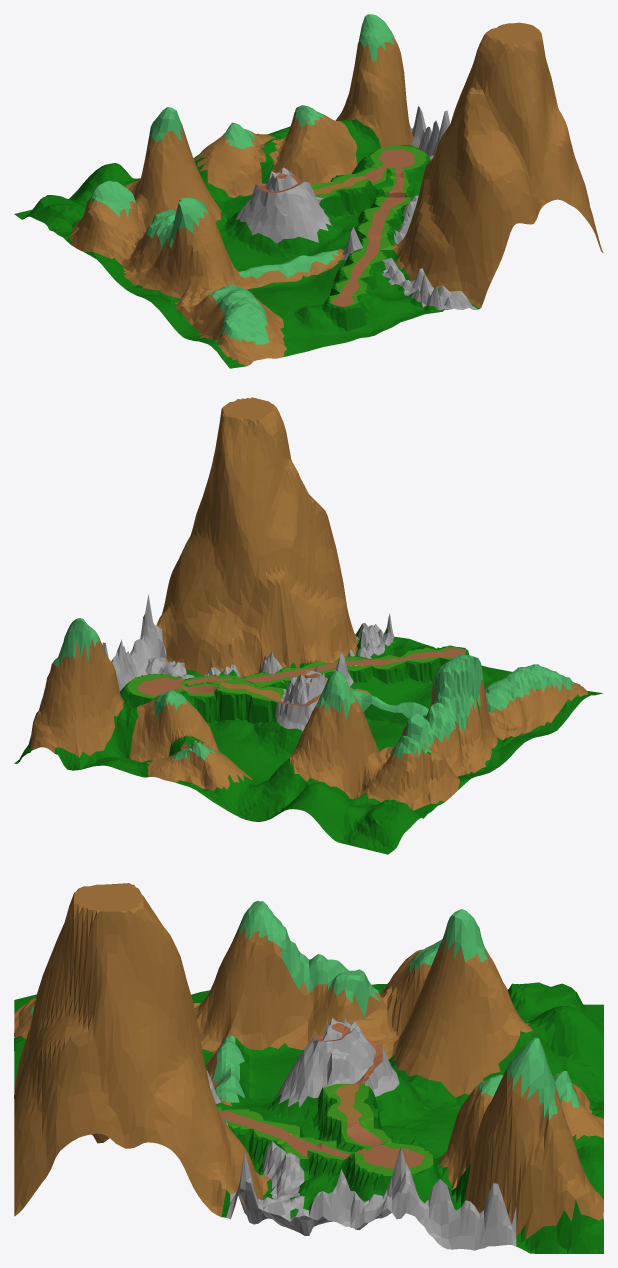
Rendered from Terreno.fbx.
3 renders of one model, top to bottom at view 1: azimuth 30°, elevation 25°; view 2: azimuth 150°, elevation 25°; view 3: azimuth 270°, elevation 25°, orthographic. The views are drawn at different scales.
Parts seen in each view (by area): view 1: Terrain, Terrain.001; view 2: Terrain, Terrain.001; view 3: Terrain, Terrain.001.
Part boxes in pixels (x1,y1,x2,y2): Terrain: (14,14,603,368); Terrain.001: (256,149,415,306); Terrain: (14,397,603,854); Terrain.001: (138,648,465,705); Terrain: (14,883,603,1253); Terrain.001: (218,1023,424,1168).
Size of the model in its own units: 100044 by 60017 by 100058.
